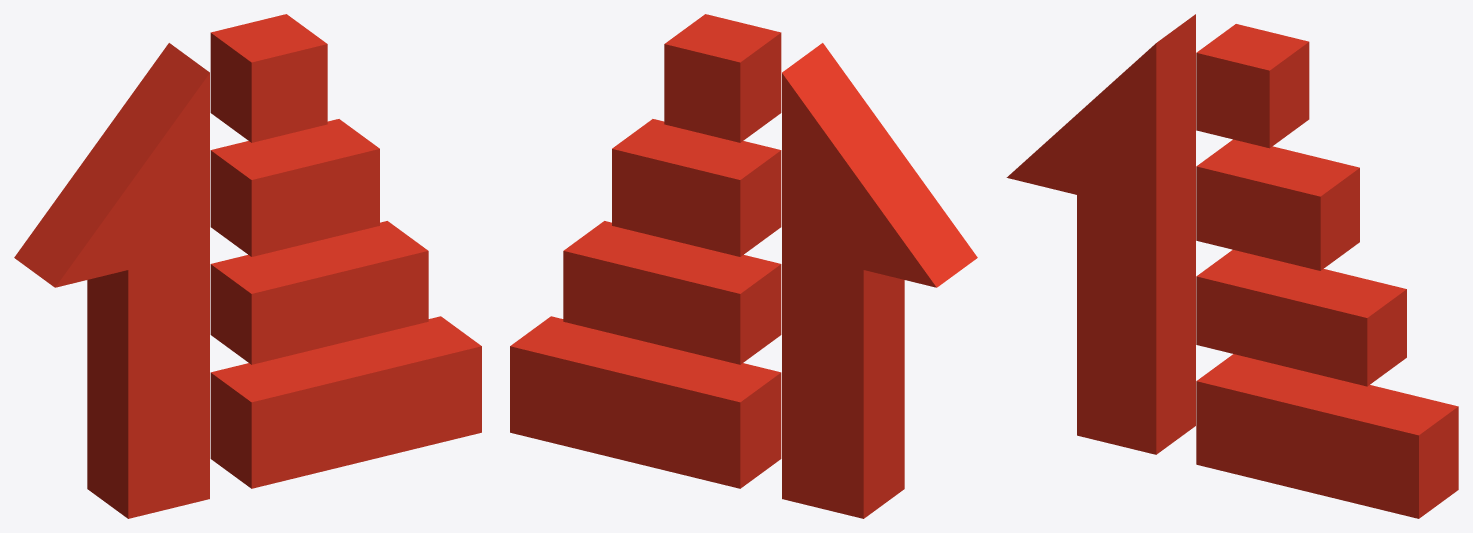
Rendered from Icon_Arrow_14.fbx.
The picture shows the model from 3 angles, left to right: view 1: azimuth 30°, elevation 25°; view 2: azimuth 150°, elevation 25°; view 3: azimuth 330°, elevation 25°; orthographic projection. The views are drawn at different scales.
Parts seen in each view (by area): view 1: Icon_Arrow_14; view 2: Icon_Arrow_14; view 3: Icon_Arrow_14.
Boxes of the visible parts, bbox=[...] form: Icon_Arrow_14: bbox=[14, 14, 481, 518]; Icon_Arrow_14: bbox=[510, 14, 977, 518]; Icon_Arrow_14: bbox=[1006, 14, 1458, 518].
Bounding box in the file's own units: 72.49 × 69.19 × 12.06.
